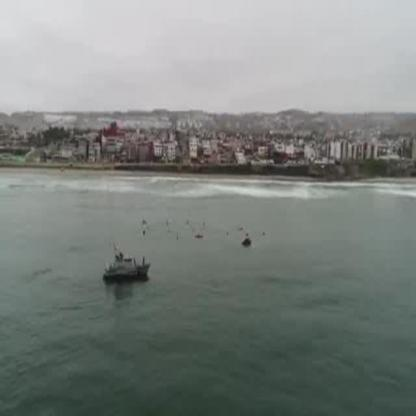Boat: (100, 245, 148, 292)
